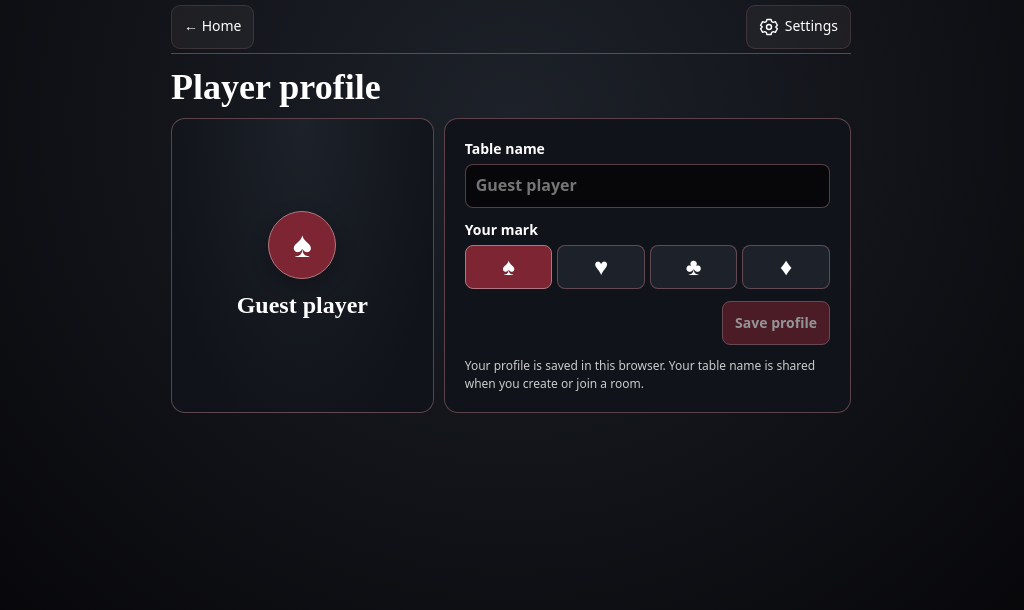
Scenario: keeps unsaved edits available when storage fails
The width and height of the screenshot is (1024, 610).
In the field labelled "Table name": x=647, y=186 [465,164,830,208], type "Mira"
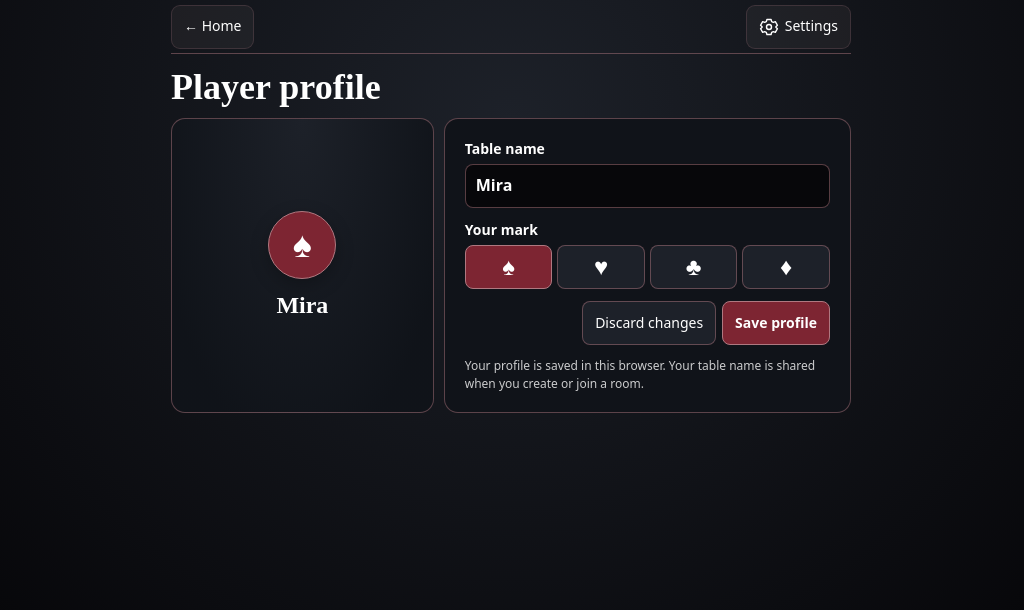
Click the button "Save profile": x=776, y=323 [722,301,830,345]
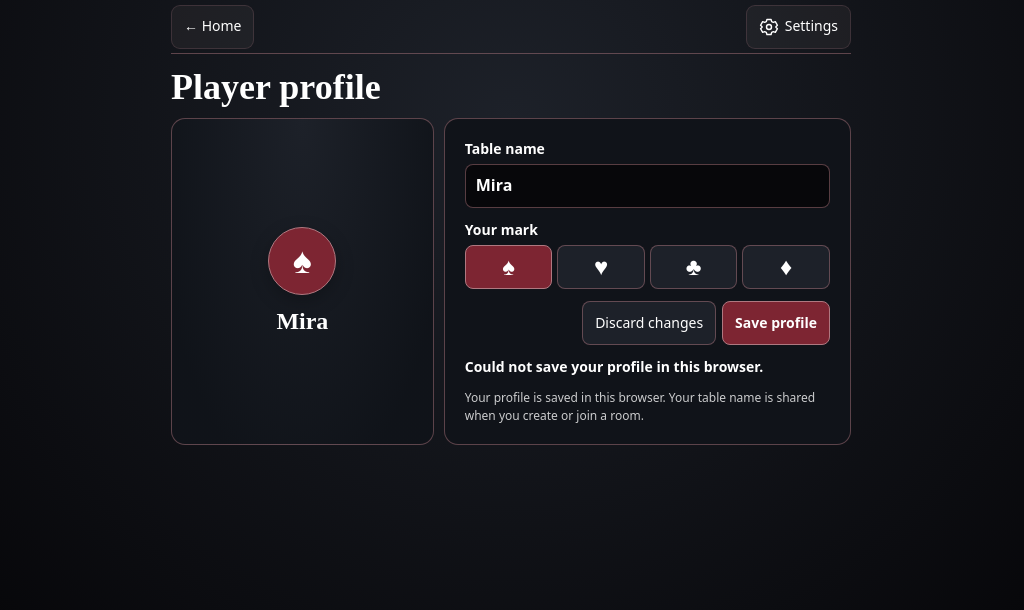
Now the button "Save profile" is enabled, box [722,301,830,345]
Now the message shows "Could not save", box [465,357,763,376]
